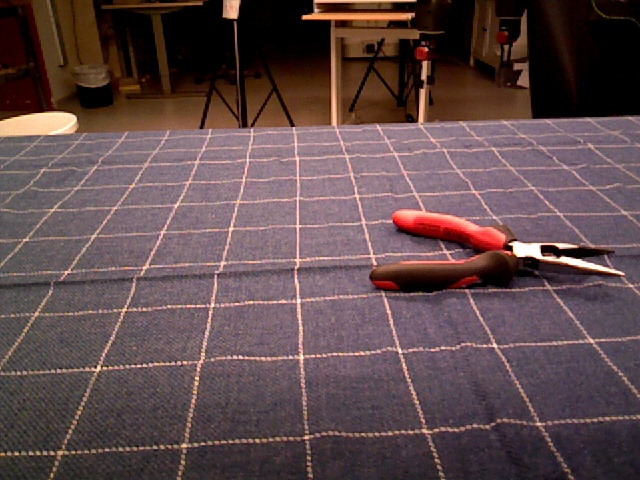plier1: (370, 209, 627, 292)
